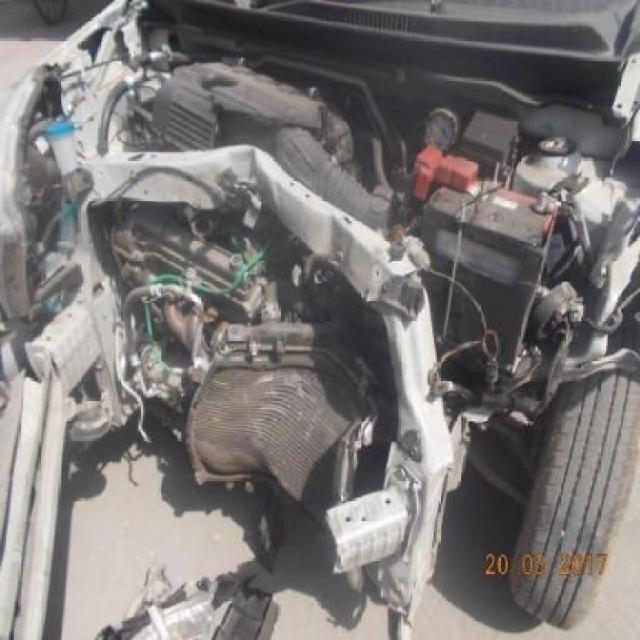damage: (13, 120, 640, 619)
